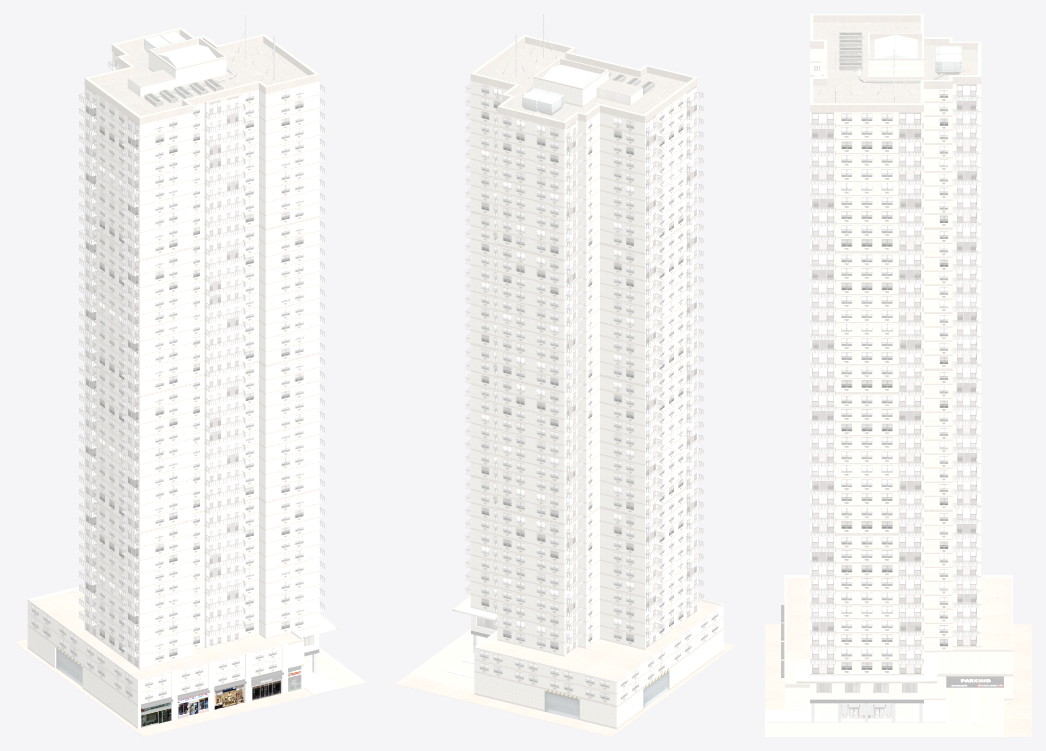
The model's file is hirise1.FBX.
3 views of the same model, side by side, from view 1: azimuth 30°, elevation 25°; view 2: azimuth 150°, elevation 25°; view 3: azimuth 270°, elevation 25° (orthographic). The views are drawn at different scales.
Visible parts, largest first — view 1: hirise1; view 2: hirise1; view 3: hirise1.
Boxes of the visible parts, bbox=[...] form: hirise1: bbox=[14, 14, 366, 736]; hirise1: bbox=[395, 14, 736, 736]; hirise1: bbox=[765, 14, 1031, 736].
Size of the model in its own units: 5400 by 14711 by 5400.
1 material, 1 textured.
